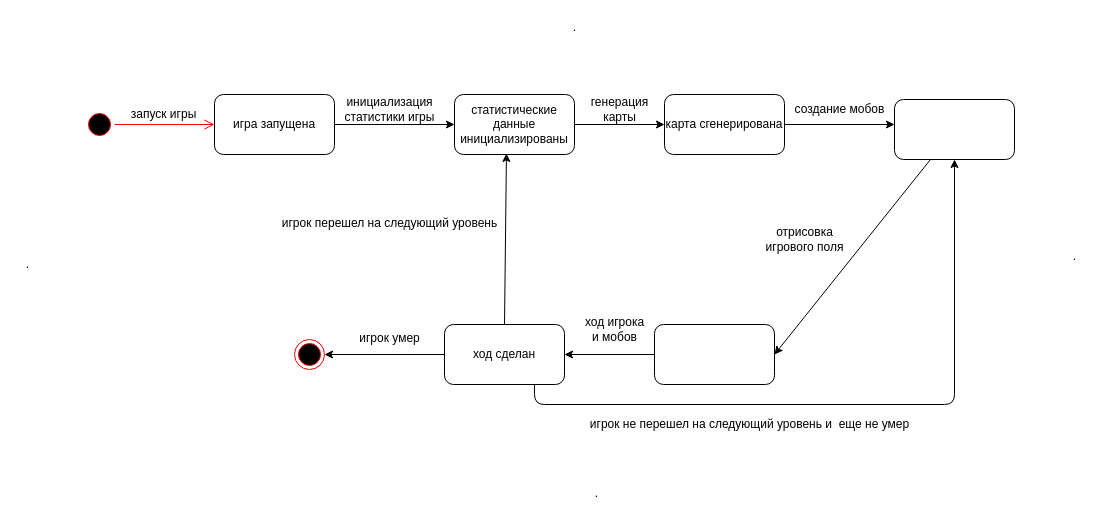
The diagram is 1101 pixels wide and 520 high, and some of its shapes have lost their labels. Each missing label, with the centre of its shape:
игровое поле нарисовано: the point at 714,354
мобы созданы: the point at 954,129
